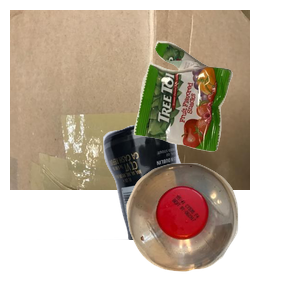cardboard: (10, 10, 250, 190)
glass: (37, 120, 231, 300)
plastic: (124, 161, 300, 300)
trash: (131, 38, 300, 182)
